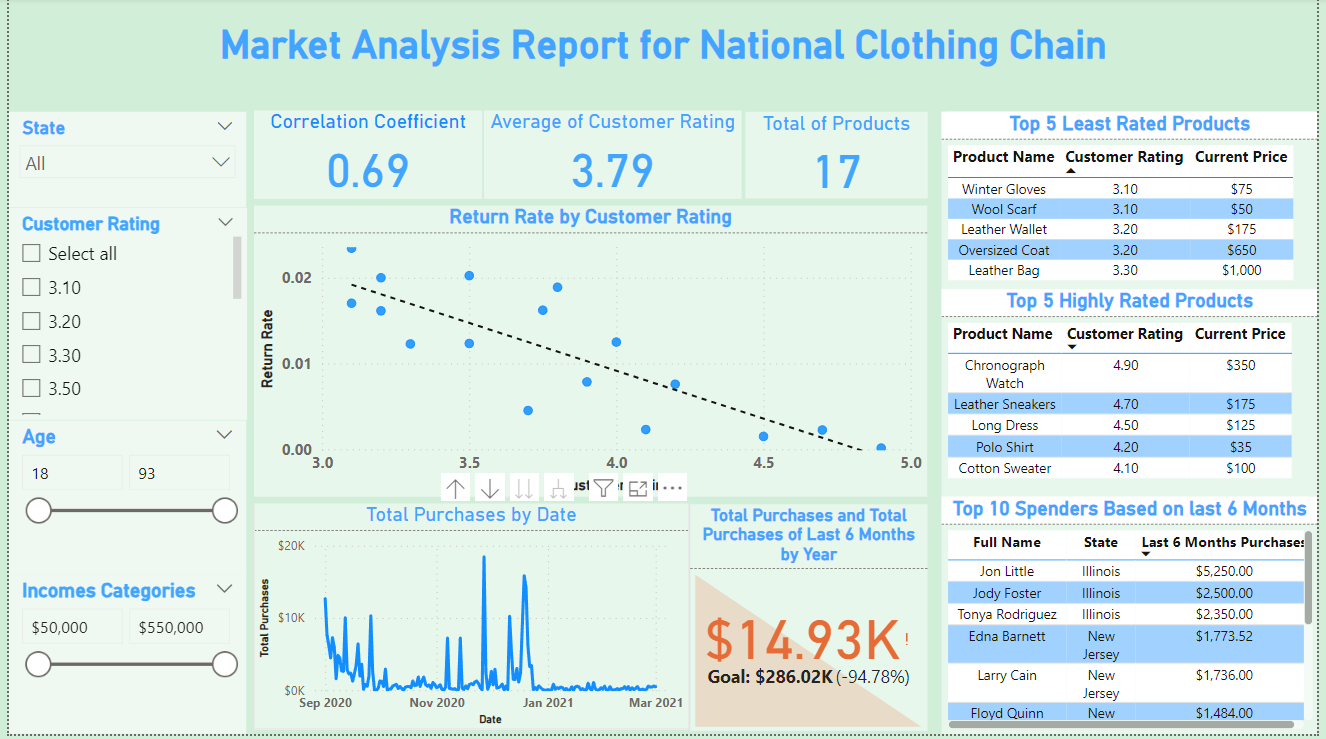

The page's visual inventory and layout, read from the dashboard file:
{"tool":"powerbi","page":{"name":"Product Analysis","canvas":[1280,720],"ordinal":3},"visuals":[{"type":"slicer","fields":{"Values":["Incomes by State.State"]},"box":[0,111.7,231.7,93.3],"z":0},{"type":"slicer","fields":{"Values":["Customer List.Age"]},"box":[0,413.3,231.7,150],"z":1000},{"type":"slicer","fields":{"Values":["Product Inventory.Customer Rating"]},"box":[0,205,232.5,207.5],"z":2000},{"type":"slicer","fields":{"Values":["Customer List.Incomes Categories"]},"box":[0,564,232,156],"z":3000},{"type":"textbox","box":[0,0,1280,82],"z":4000},{"type":"tableEx","title":"Top 5 Highly Rated Products","fields":{"Values":["Product Inventory.Product Name.1","Product Inventory.Customer Rating","Product Inventory.Current Price"]},"box":[911.7,285,368.3,203.3],"z":5000},{"type":"tableEx","title":"Top 5 Least Rated Products","fields":{"Values":["Product Inventory.Product Name","Product Inventory.Customer Rating","Product Inventory.Current Price"]},"box":[911.7,111.7,368.3,173.3],"z":6000},{"type":"tableEx","title":"Top 10 Spenders Based on last 6 Months","fields":{"Values":["Customer List.Full Name","Customer List.State","Customer List.Last 6 Months Purchases"]},"box":[911.7,488.3,368.3,231.7],"z":7000},{"type":"kpi","title":"Total Purchases and Total Purchases of Last 6 Months by Year","fields":{"Indicator":["Sum(Purchase List.Purchases)"],"Goal":["Sum(Customer List.Last 6 Months Purchases)"],"TrendLine":["Purchase List.Date.Variation.Date Hierarchy.Year"]},"box":[666.7,495,231.7,221.7],"z":8000},{"type":"scatterChart","title":"Return Rate by Customer Rating","fields":{"X":["Product Inventory.Customer Rating"],"Y":["Product Inventory.Return Rate"]},"box":[240,203.3,658.3,285],"z":9000},{"type":"lineChart","title":"Total Purchases by Date","fields":{"Y":["Sum(Purchase List.Purchases)"],"Category":["Purchase List.Date.Variation.Date Hierarchy.Year","Purchase List.Date.Variation.Date Hierarchy.Quarter","Purchase List.Date.Variation.Date Hierarchy.Month","Purchase List.Date.Variation.Date Hierarchy.Day"]},"box":[240,493.3,425,221.7],"z":10000},{"type":"card","title":"Total of Products","fields":{"Values":["CountNonNull(Product Inventory.Product ID)"]},"box":[720,111.7,178.3,85],"z":11000},{"type":"card","title":"Correlation Coefficient","fields":{"Values":["Product Inventory.Customer Rating and Return Rate correlation for Return Rate"]},"box":[240,110,223.3,86.7],"z":12000},{"type":"card","title":"Average of Customer Rating","fields":{"Values":["Product Inventory.Average Of Customer Rating"]},"box":[465,110,251.7,86.7],"z":13000}]}

Visuals, with their boxes in screenshot pixels (x1, y1, x2, y2), scaled from the page's 1280x720 canvas onto the 1326x739 screenshot:
slicer - Incomes by State.State: 0/115/240/210
slicer - Customer List.Age: 0/424/240/578
slicer - Product Inventory.Customer Rating: 0/210/241/423
slicer - Customer List.Incomes Categories: 0/579/240/738
textbox: 0/0/1325/84
"Top 5 Highly Rated Products" tableEx: 944/293/1325/501
"Top 5 Least Rated Products" tableEx: 944/115/1325/293
"Top 10 Spenders Based on last 6 Months" tableEx: 944/501/1325/738
"Total Purchases and Total Purchases of Last 6 Months by Year" kpi: 691/508/931/736
"Return Rate by Customer Rating" scatterChart: 249/209/931/501
"Total Purchases by Date" lineChart: 249/506/689/734
"Total of Products" card: 746/115/931/202
"Correlation Coefficient" card: 249/113/480/202
"Average of Customer Rating" card: 482/113/742/202
